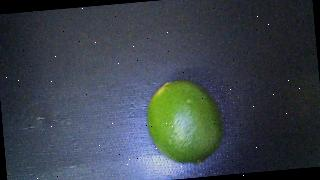EXPORTACION: (145, 77, 227, 167)
